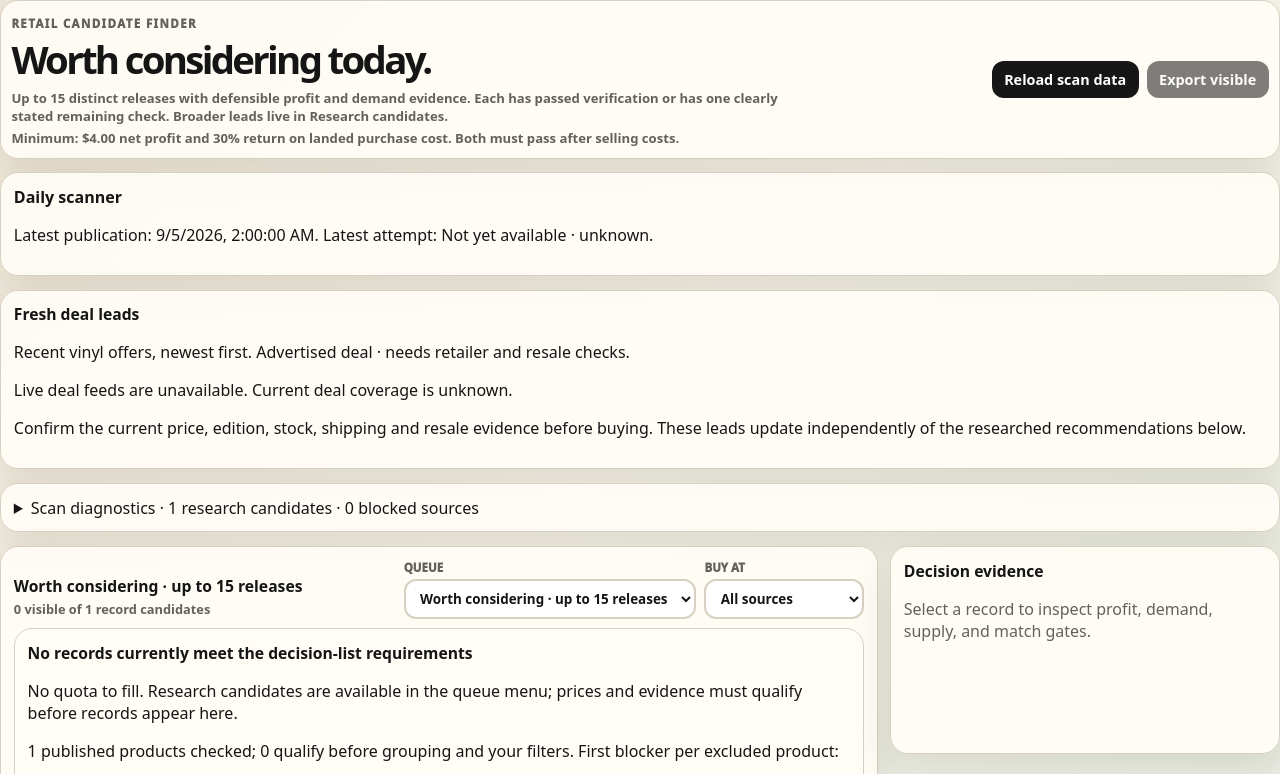
Scenario: arbitrage pages › fills the research queue with a provisional album range without creating a buy recommendation
Select "Research candidates" in the dropdown labelled "Queue". click: [550, 599]
box: [404,579,696,619]
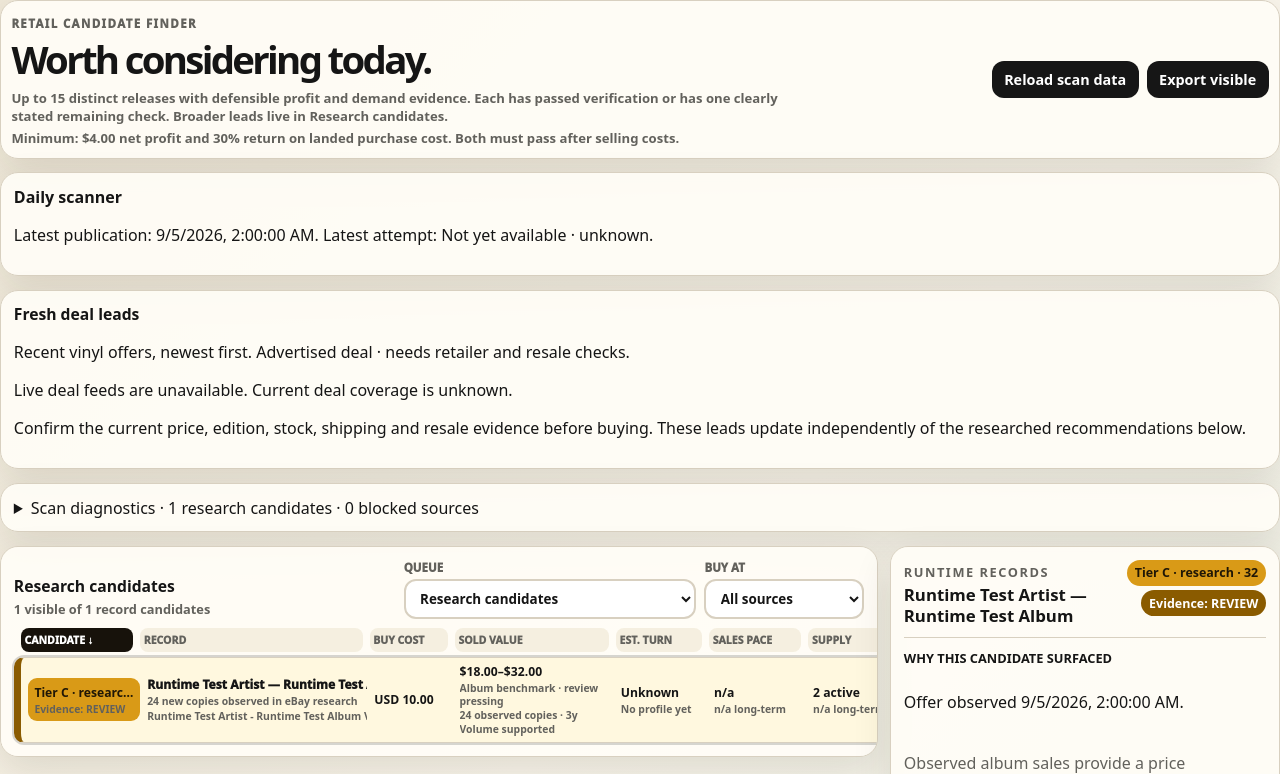
Now the element with class "arbitrage-sold-value" shows "$18.00–$32.00", box [460,663,614,736]
Now the element with class "arbitrage-sold-value" shows "Album benchmark · review pressing", box [460,681,598,708]
Now the element with class "arbitrage-sold-value" shows "24 observed copies · 3y", box [460,663,614,736]
